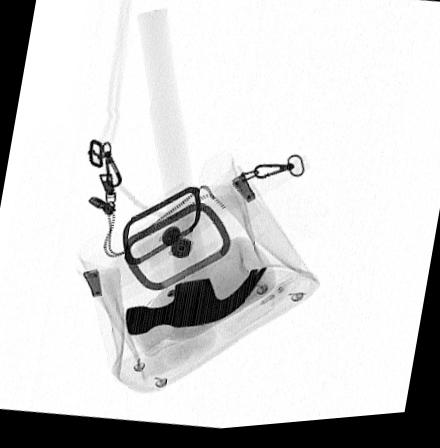Hammer: (125, 10, 267, 337)
